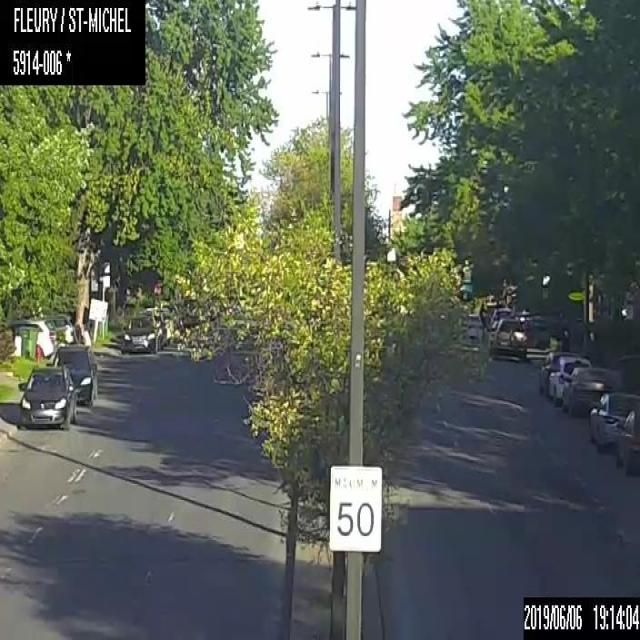vehicle: (16, 366, 77, 428), (48, 340, 101, 410), (587, 387, 639, 456), (560, 364, 615, 423), (547, 356, 590, 406), (6, 318, 57, 358), (538, 349, 578, 396), (121, 312, 160, 353), (488, 318, 526, 360), (619, 407, 639, 475), (458, 313, 482, 340)
